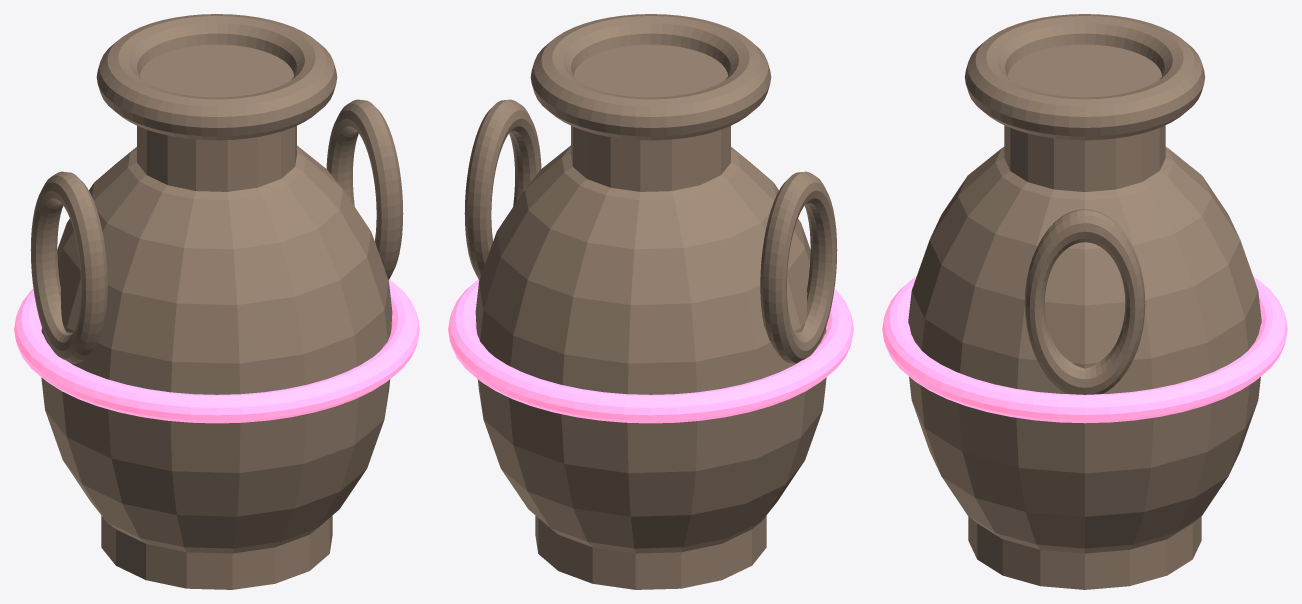
File: SepulcherCursedUrn.glb
3 views of the same model, side by side, from view 1: azimuth 30°, elevation 25°; view 2: azimuth 150°, elevation 25°; view 3: azimuth 270°, elevation 25° (orthographic).
Parts seen in each view (by area): view 1: SepulcherCursedUrn; view 2: SepulcherCursedUrn; view 3: SepulcherCursedUrn.
Part boxes in pixels (<box>): SepulcherCursedUrn: <box>14,14,419,589</box>; SepulcherCursedUrn: <box>448,14,853,589</box>; SepulcherCursedUrn: <box>882,14,1287,589</box>.
Bounding box in the file's own units: 2.26 × 3.07 × 2.26.
